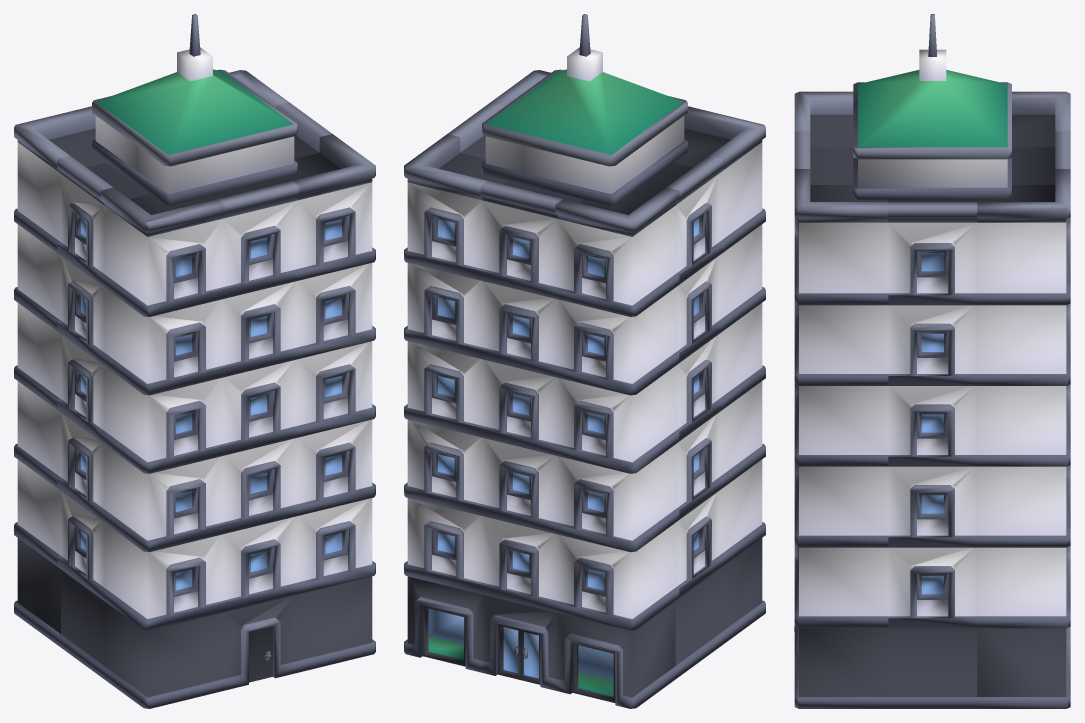
File: building-m_lev1.glb
3 views of the same model, side by side, from view 1: azimuth 30°, elevation 25°; view 2: azimuth 150°, elevation 25°; view 3: azimuth 270°, elevation 25° (orthographic). The views are drawn at different scales.
Parts seen in each view (by area): view 1: building-m_lev1; view 2: building-m_lev1; view 3: building-m_lev1.
Part boxes in pixels (x1=…): building-m_lev1: x1=14, y1=14, x2=375, y2=708; building-m_lev1: x1=404, y1=14, x2=765, y2=708; building-m_lev1: x1=794, y1=14, x2=1070, y2=708.
Size of the model in its own units: 7.44 by 18.9 by 7.45.
1 material, 1 textured.
